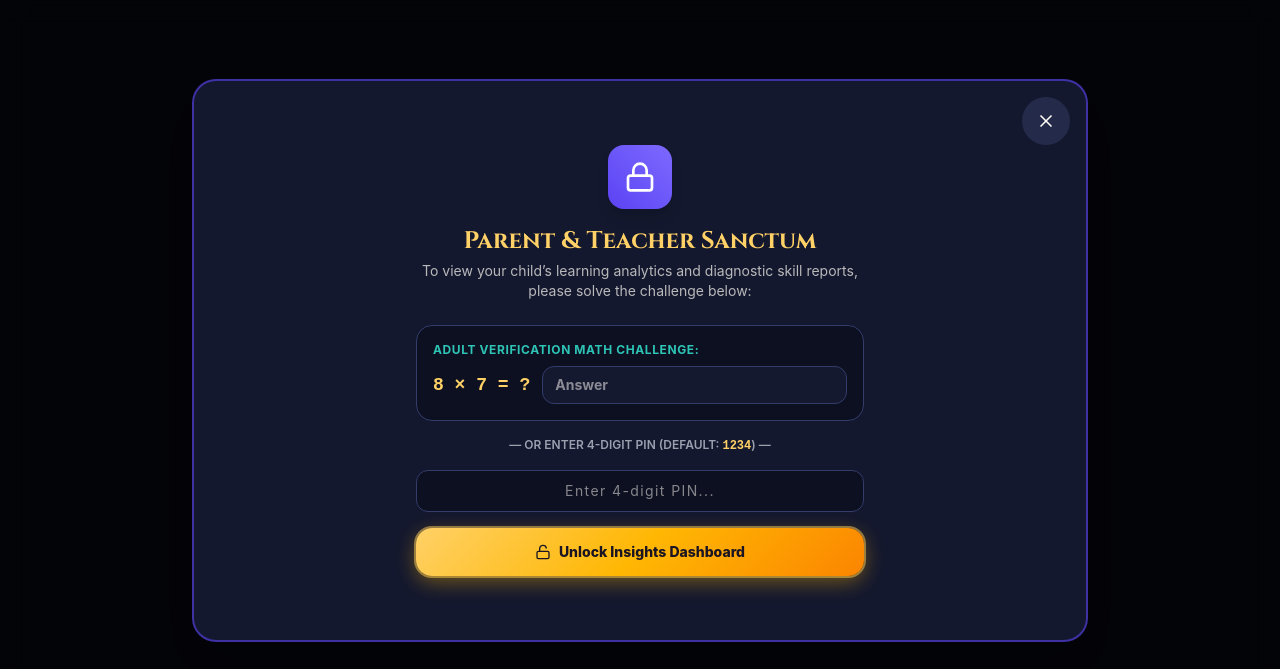
Test: Comprehension Engine › ParentDashboard - Mastery Percentage & Aggregate Calculations › calculates comprehension score percentage and totals accurately
The width and height of the screenshot is (1280, 669).
# Unlock with PIN
In the password field with placeholder "Enter 4-digit PIN...": coordinates (640, 490) top-left (416, 470), bottom-right (864, 512), type "1234"
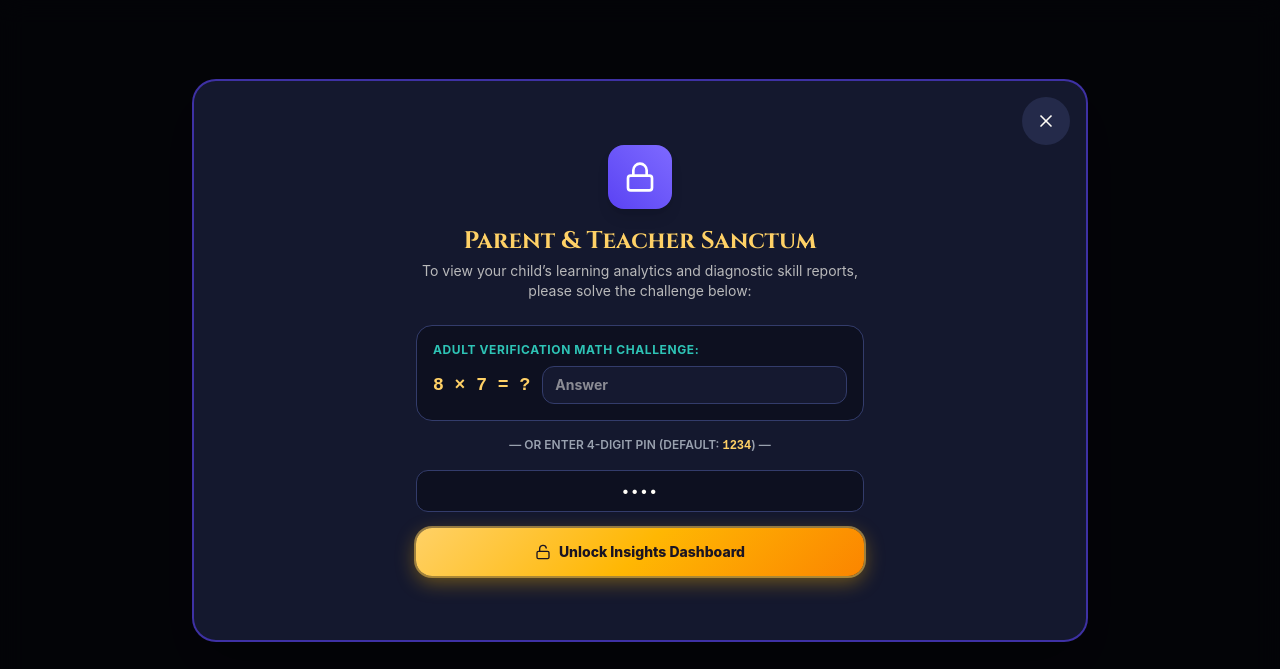
Click the button "Unlock Insights Dashboard": coordinates (640, 552) top-left (416, 528), bottom-right (864, 576)
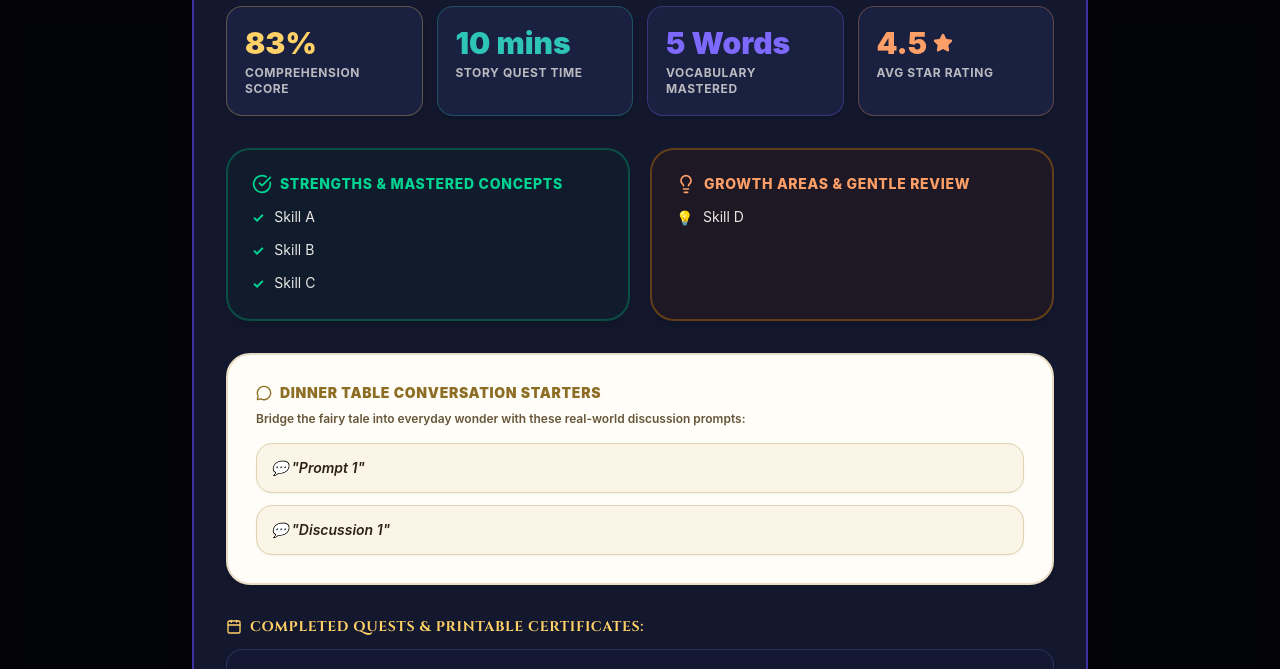
Check: the text "83%" is shown, box top-left (245, 25), bottom-right (317, 61)
Check: the text "5 Words" is shown, box top-left (666, 25), bottom-right (790, 61)
Check: the text "4.5" is shown, box top-left (876, 25), bottom-right (927, 61)
